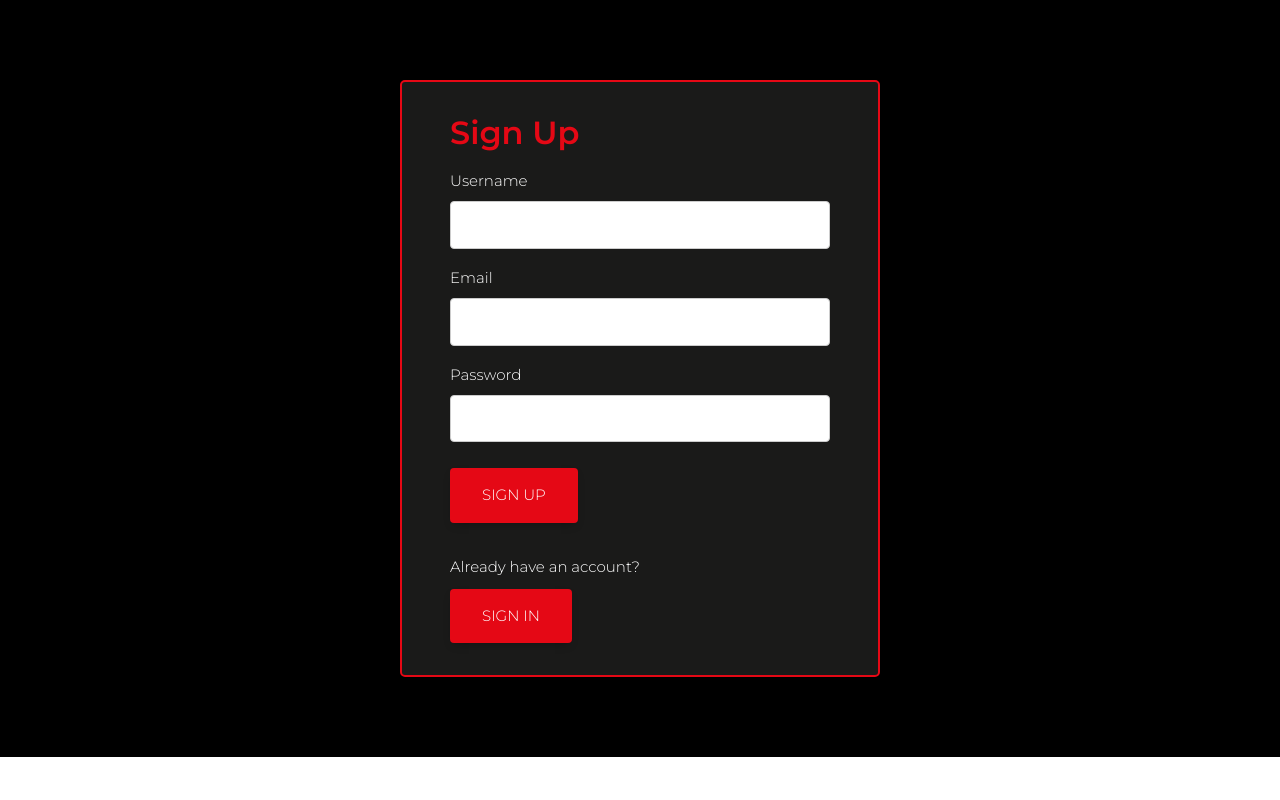
Test: Failed Sign Up Scenario - Blank Username, Email & Password Input
The image size is (1280, 800).
Note: Simulate click.
Click the button showing "SIGN UP" at [514, 495], box [450,468,578,523]
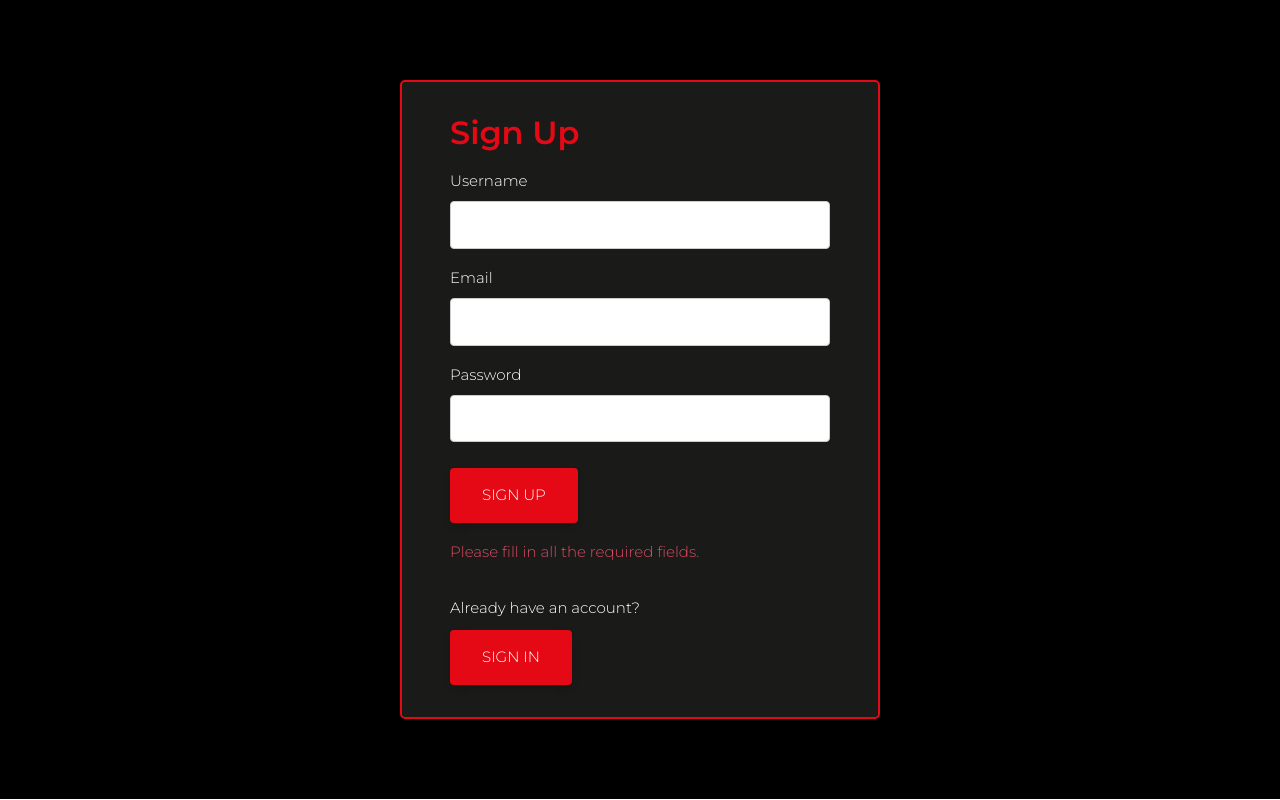
Expected: the text "Please fill in all the required fields." is shown, [450,542,699,561]
